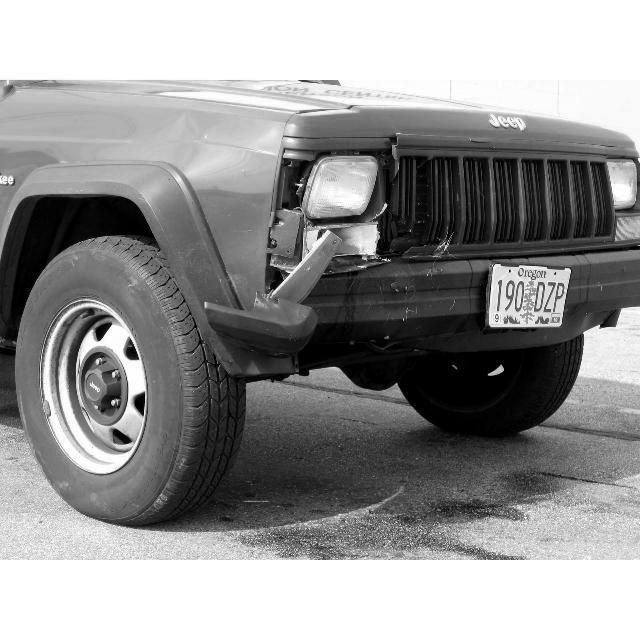Headlight-damage: (259, 118, 405, 321)
